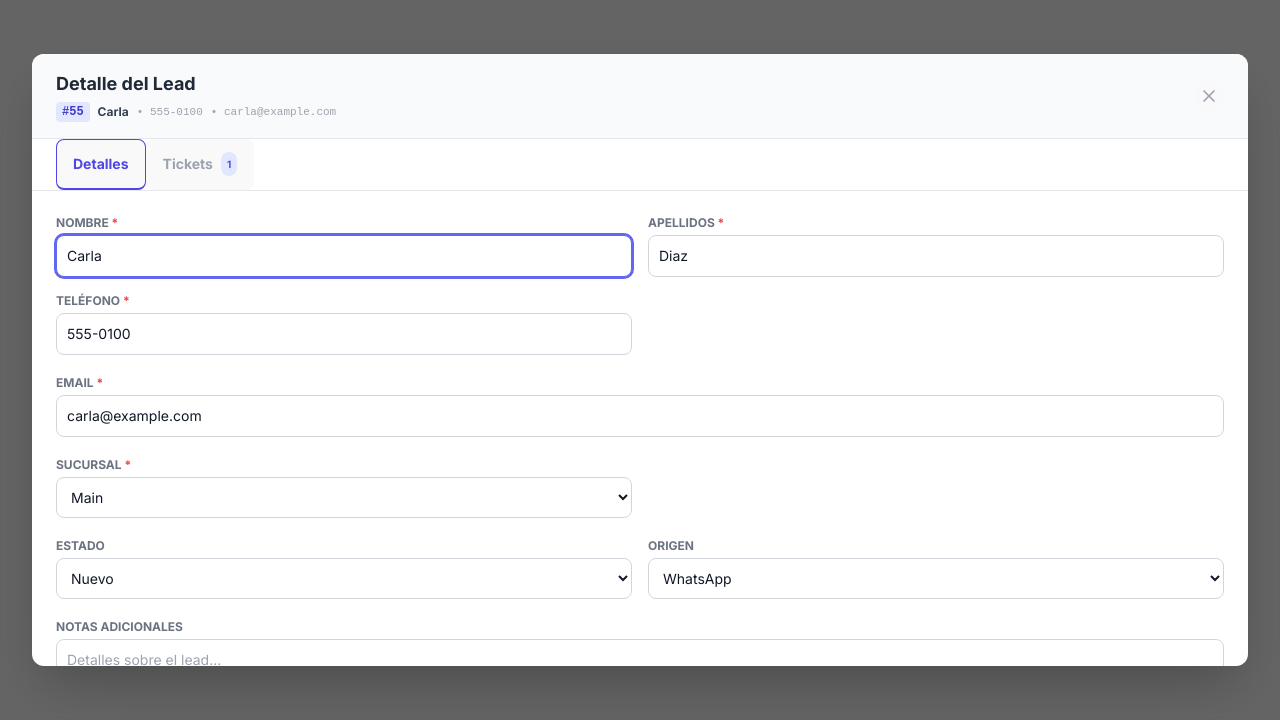
Test case: LeadModal — ticket assignment dialog › a 409 explains that someone else changed it and reloads the current state
Click the button "Tickets 1" at (200, 164), box top-left (146, 139), bottom-right (254, 190)
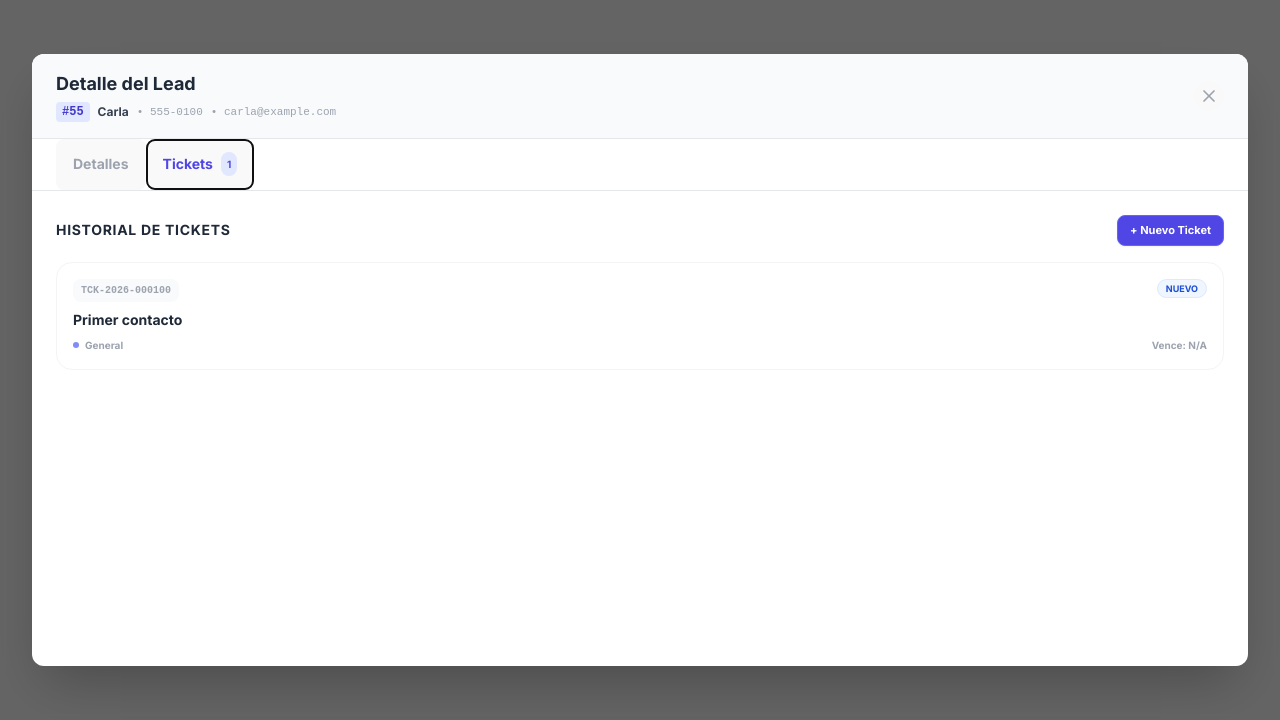
Click the text "TCK-2026-000100" at (126, 290), box top-left (73, 278), bottom-right (179, 302)
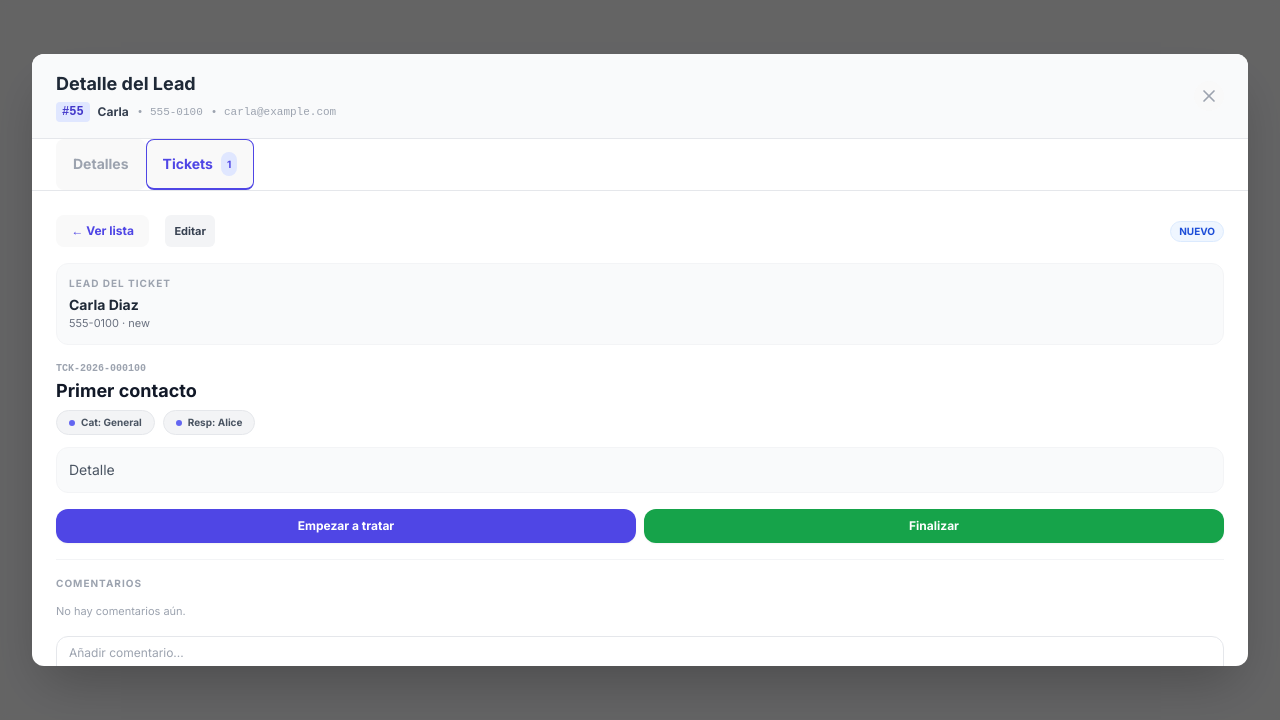
Click the button "Editar" at (190, 231), box top-left (165, 215), bottom-right (215, 247)
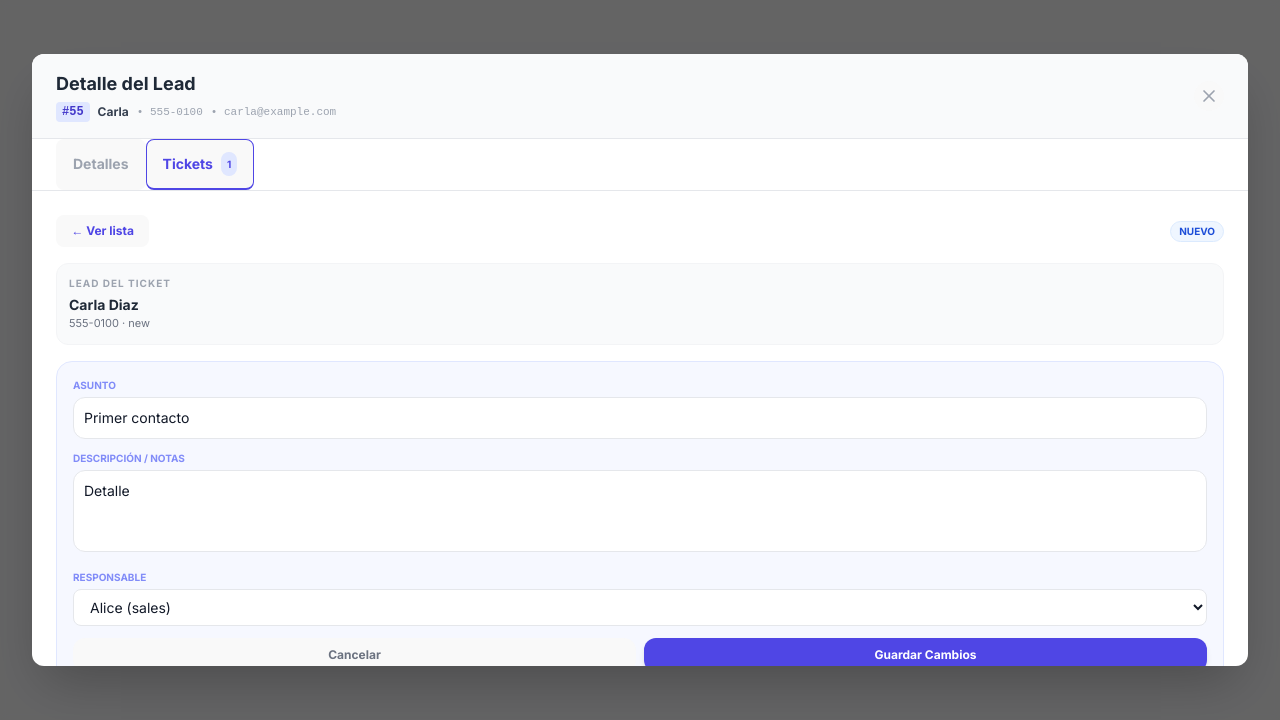
Select "Bruno (sales)" in the dropdown with test id "ticket-assignment-select" at (640, 607), box top-left (73, 589), bottom-right (1207, 626)
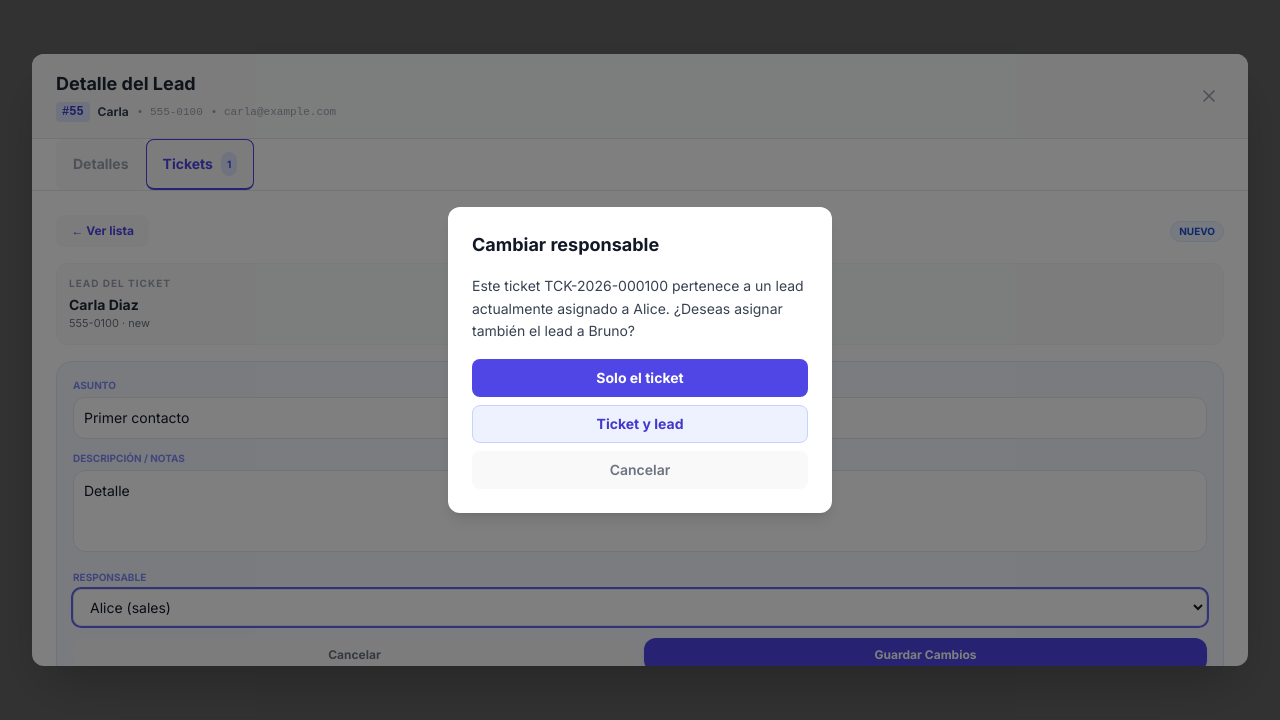
Click the button with test id "assignment-dialog-ticket-only" at (640, 378), box top-left (472, 359), bottom-right (808, 397)
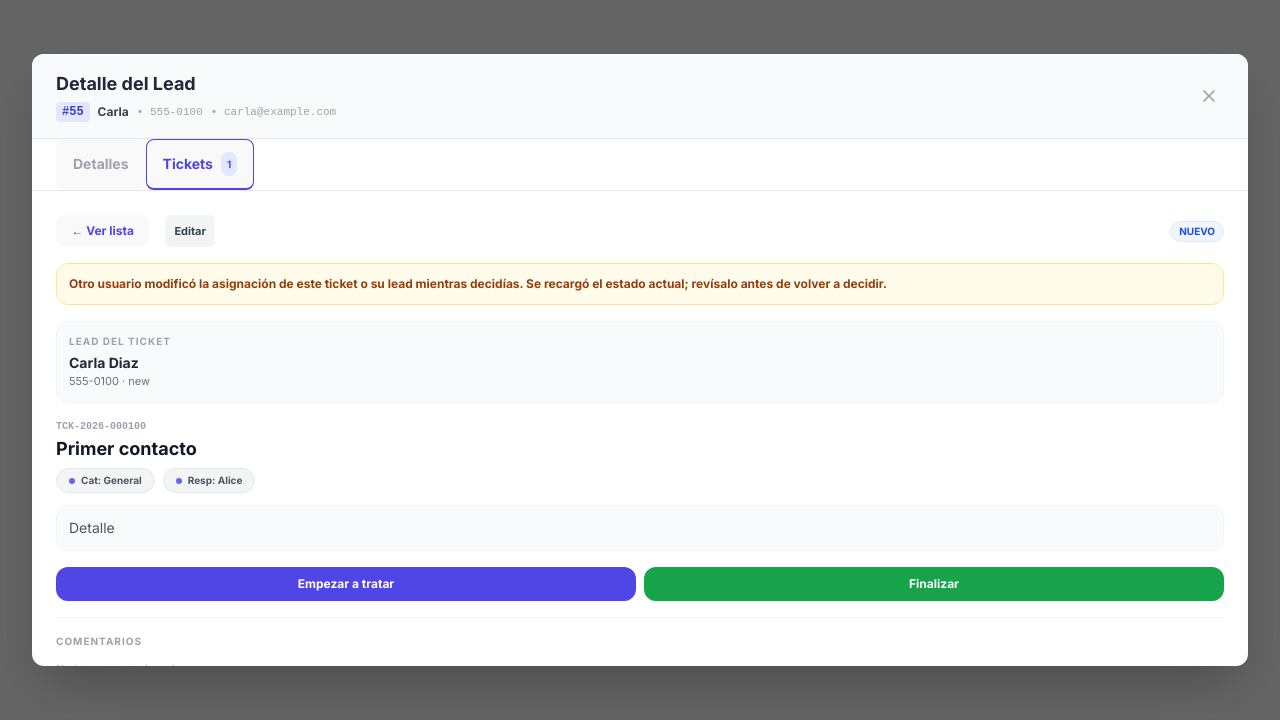
Expected: the message with test id "assignment-error" shows "Otro usuario modificó", top-left (69, 276), bottom-right (887, 291)
Expected: the dialog with test id "assignment-dialog" is gone
